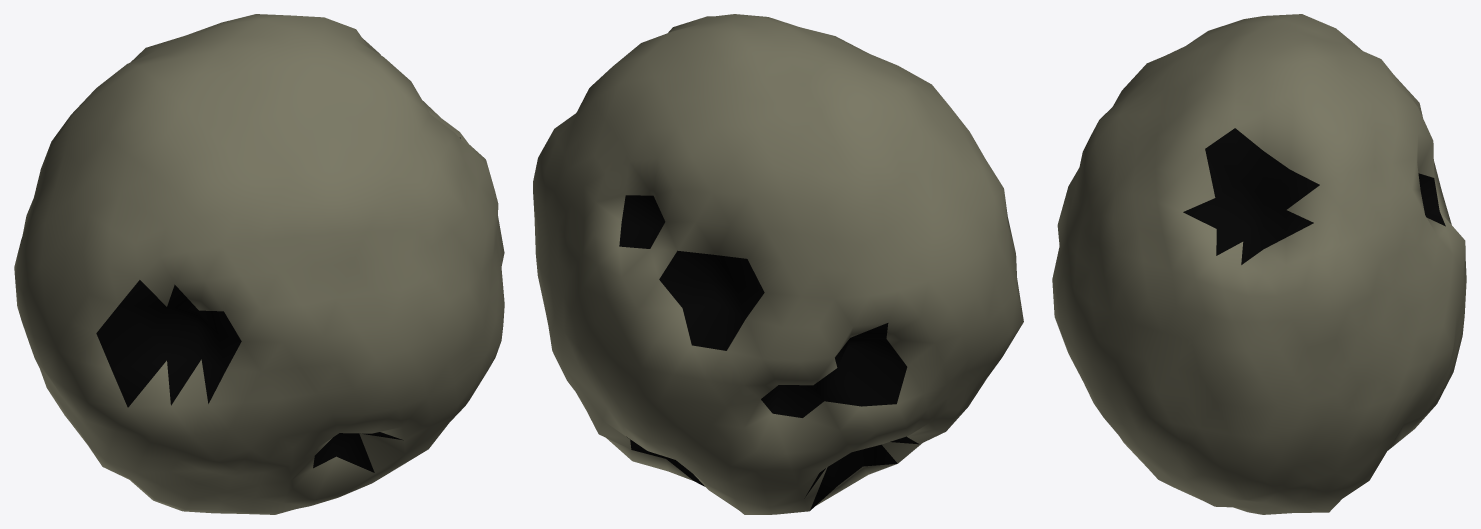
The model's file is asteroid_00.glb.
3 renders of one model, left to right at view 1: azimuth 30°, elevation 25°; view 2: azimuth 150°, elevation 25°; view 3: azimuth 270°, elevation 25°, orthographic. The views are drawn at different scales.
Visible parts, largest first — view 1: Asteroid_00; view 2: Asteroid_00; view 3: Asteroid_00.
Part boxes in pixels (bbox=[...]): Asteroid_00: bbox=[14, 14, 504, 514]; Asteroid_00: bbox=[533, 14, 1023, 514]; Asteroid_00: bbox=[1052, 14, 1466, 514].
Size of the model in its own units: 2.21 by 2.23 by 1.85.
